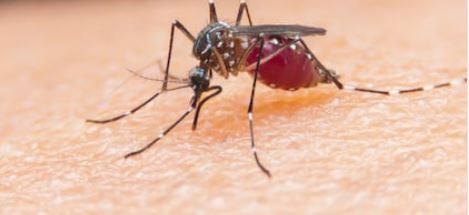dengue_mosquito: (111, 1, 402, 156)
